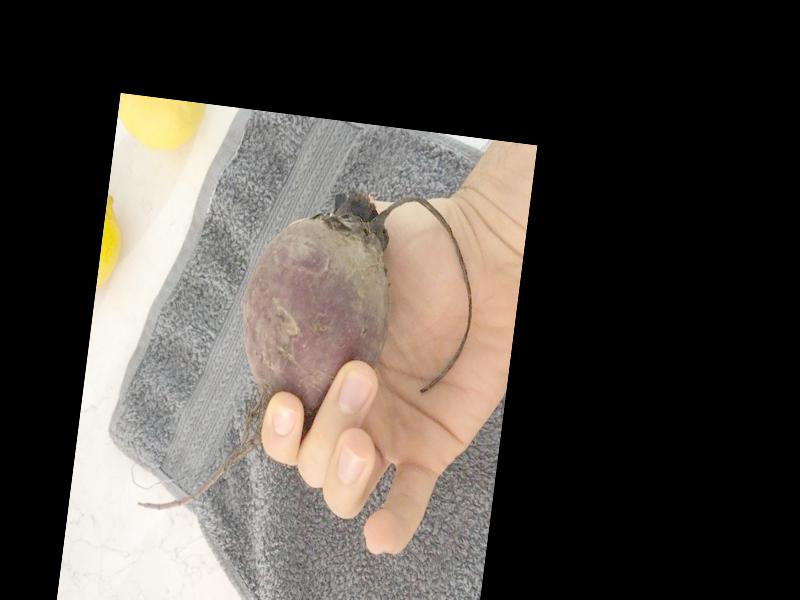Beet: (137, 170, 485, 544)
